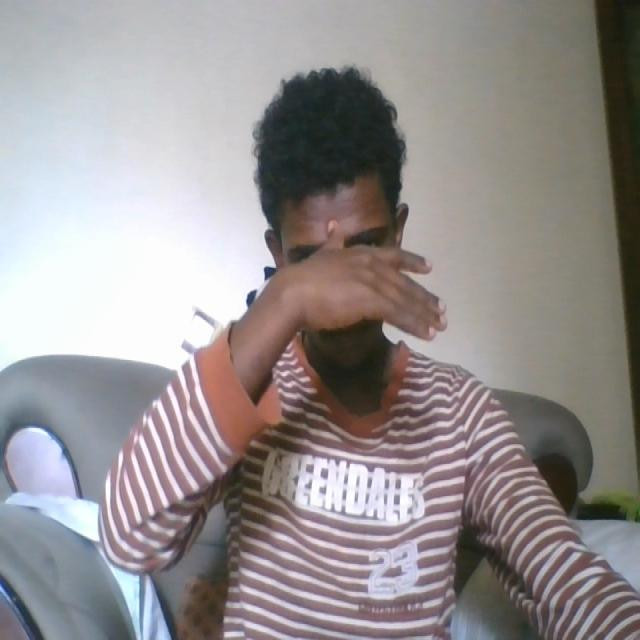abat: (266, 210, 451, 354)
